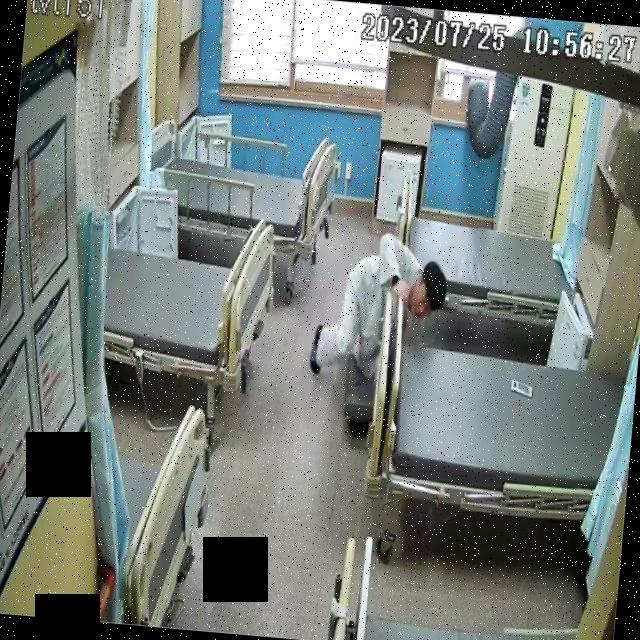bed: (381, 333, 629, 528), (95, 204, 282, 396), (142, 118, 337, 255), (390, 190, 580, 326)
fall: (298, 223, 457, 421)
patient: (298, 222, 458, 422)
